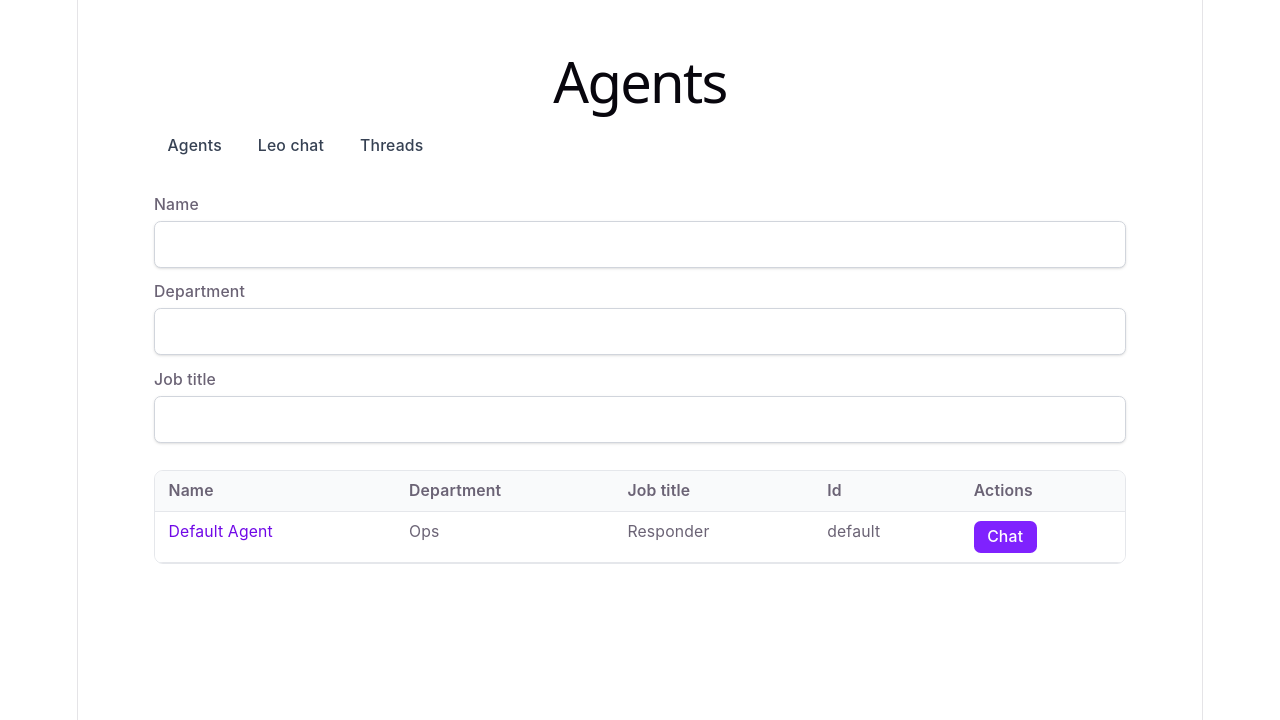
Test: AgentsListPage › searches and renders result links to detail routes
In the field labelled "Name": [640, 244] box [154,221,1126,268], type "Leo"
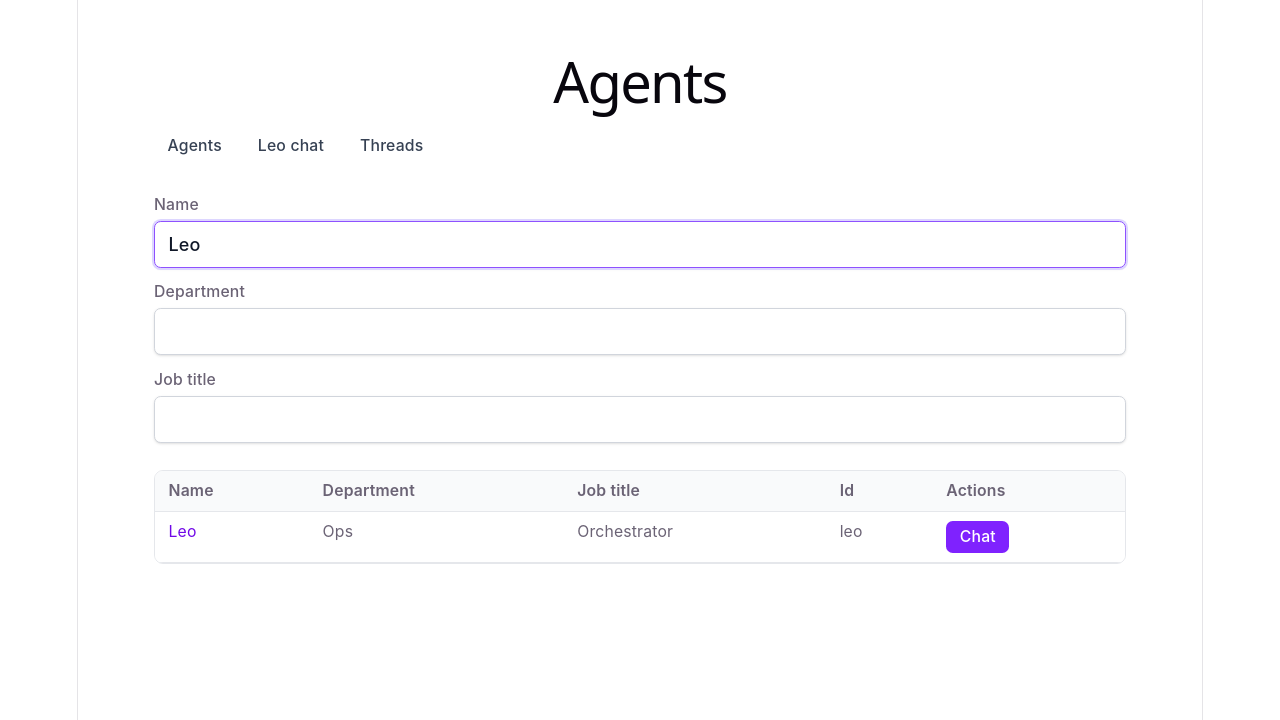
Expected: the text "Ops" is shown, [309,512,564,562]
Now the text "Orchestrator" is shown, box [564,512,826,562]
